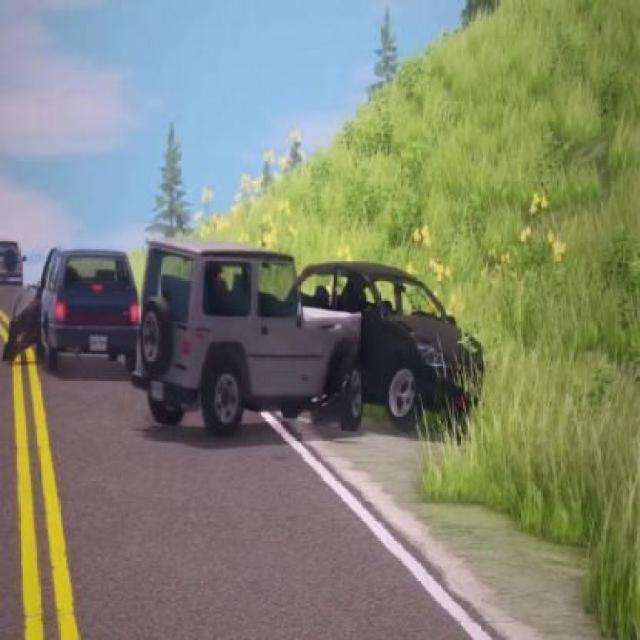accident: (115, 220, 497, 472)
